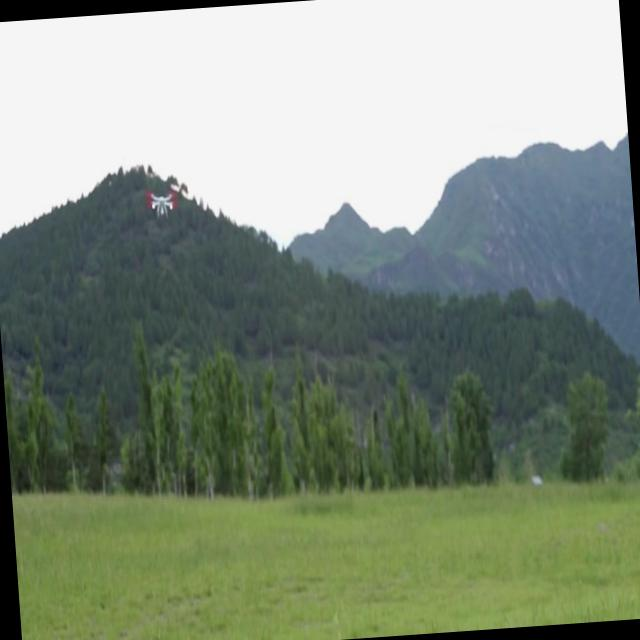drone: (144, 186, 180, 220)
